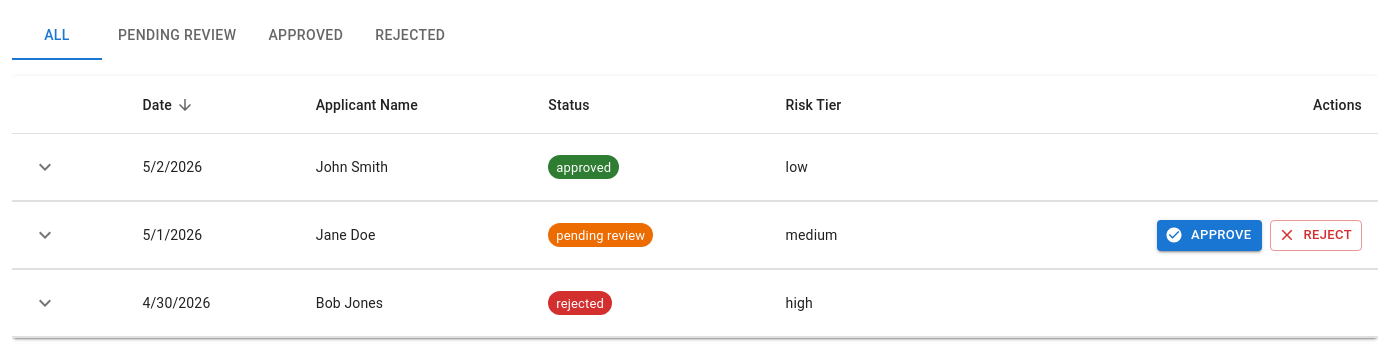
it: AdminApplicationsTab › Filter chips › clicking "Pending Review" filter shows only pending applications
Expected: the text "Jane Doe" is shown, [300,202,532,269]
Click the tab "Pending Review". click: click(177, 36)
box: [102,12,252,60]
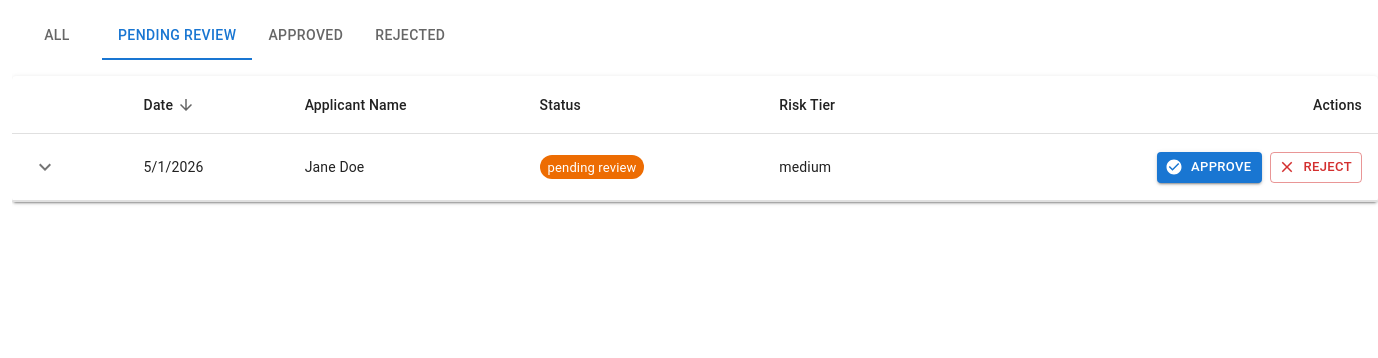
Expected: the text "Jane Doe" is shown, [289,134,524,201]
Now the text "John Smith" is gone
Now the text "Bob Jones" is gone
